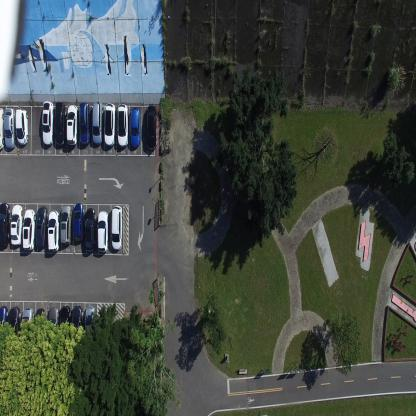car: (110, 204, 124, 252), (21, 306, 34, 350), (7, 306, 20, 350), (47, 209, 60, 252), (22, 208, 35, 251), (10, 202, 23, 245), (104, 102, 116, 148), (79, 100, 91, 146), (42, 100, 54, 146), (58, 304, 70, 350), (35, 206, 48, 248), (145, 104, 157, 149), (54, 101, 66, 146), (116, 103, 128, 147), (96, 209, 108, 253), (84, 208, 96, 252), (71, 304, 83, 348), (3, 106, 15, 149), (66, 104, 78, 146), (15, 108, 28, 146), (129, 107, 141, 148), (60, 203, 72, 244), (92, 101, 103, 145), (84, 304, 95, 348), (72, 202, 84, 242), (0, 201, 10, 248), (48, 305, 58, 348), (35, 308, 46, 346), (0, 304, 8, 350), (0, 107, 4, 152)
